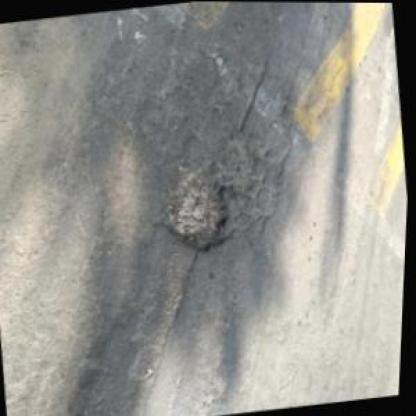pothole: (157, 156, 241, 260), (219, 126, 268, 197), (265, 80, 297, 120)
